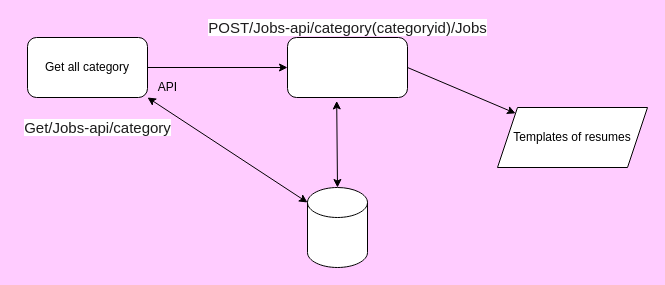
This 665x285 diagram has some shape labels left out. The shapes that lost their labels are listed below. From the top down, each one's centre as x and y in pixels, then its label:
(x=347, y=67): Get Jobs
(x=337, y=227): Dynamo DB
